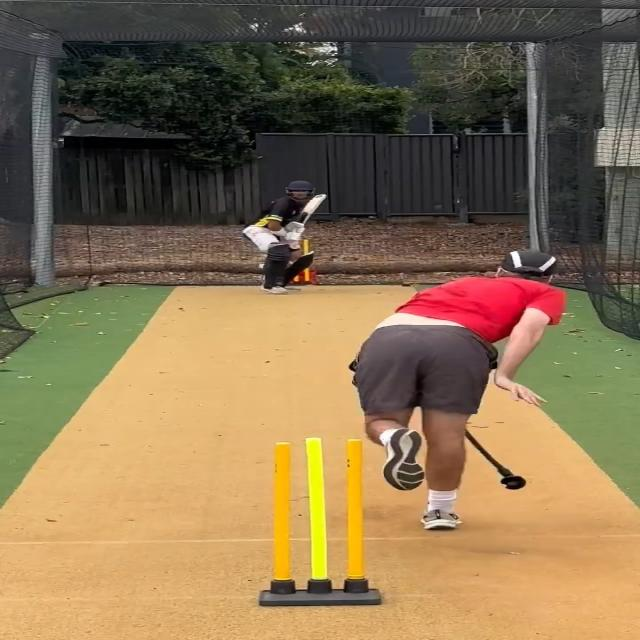stump: (258, 437, 384, 606)
